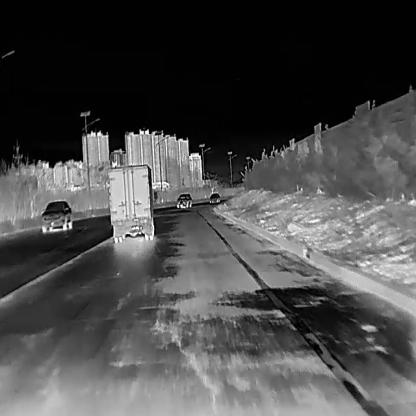car: (40, 200, 72, 231), (175, 192, 192, 206), (208, 192, 219, 202)
truck: (106, 163, 156, 242)
